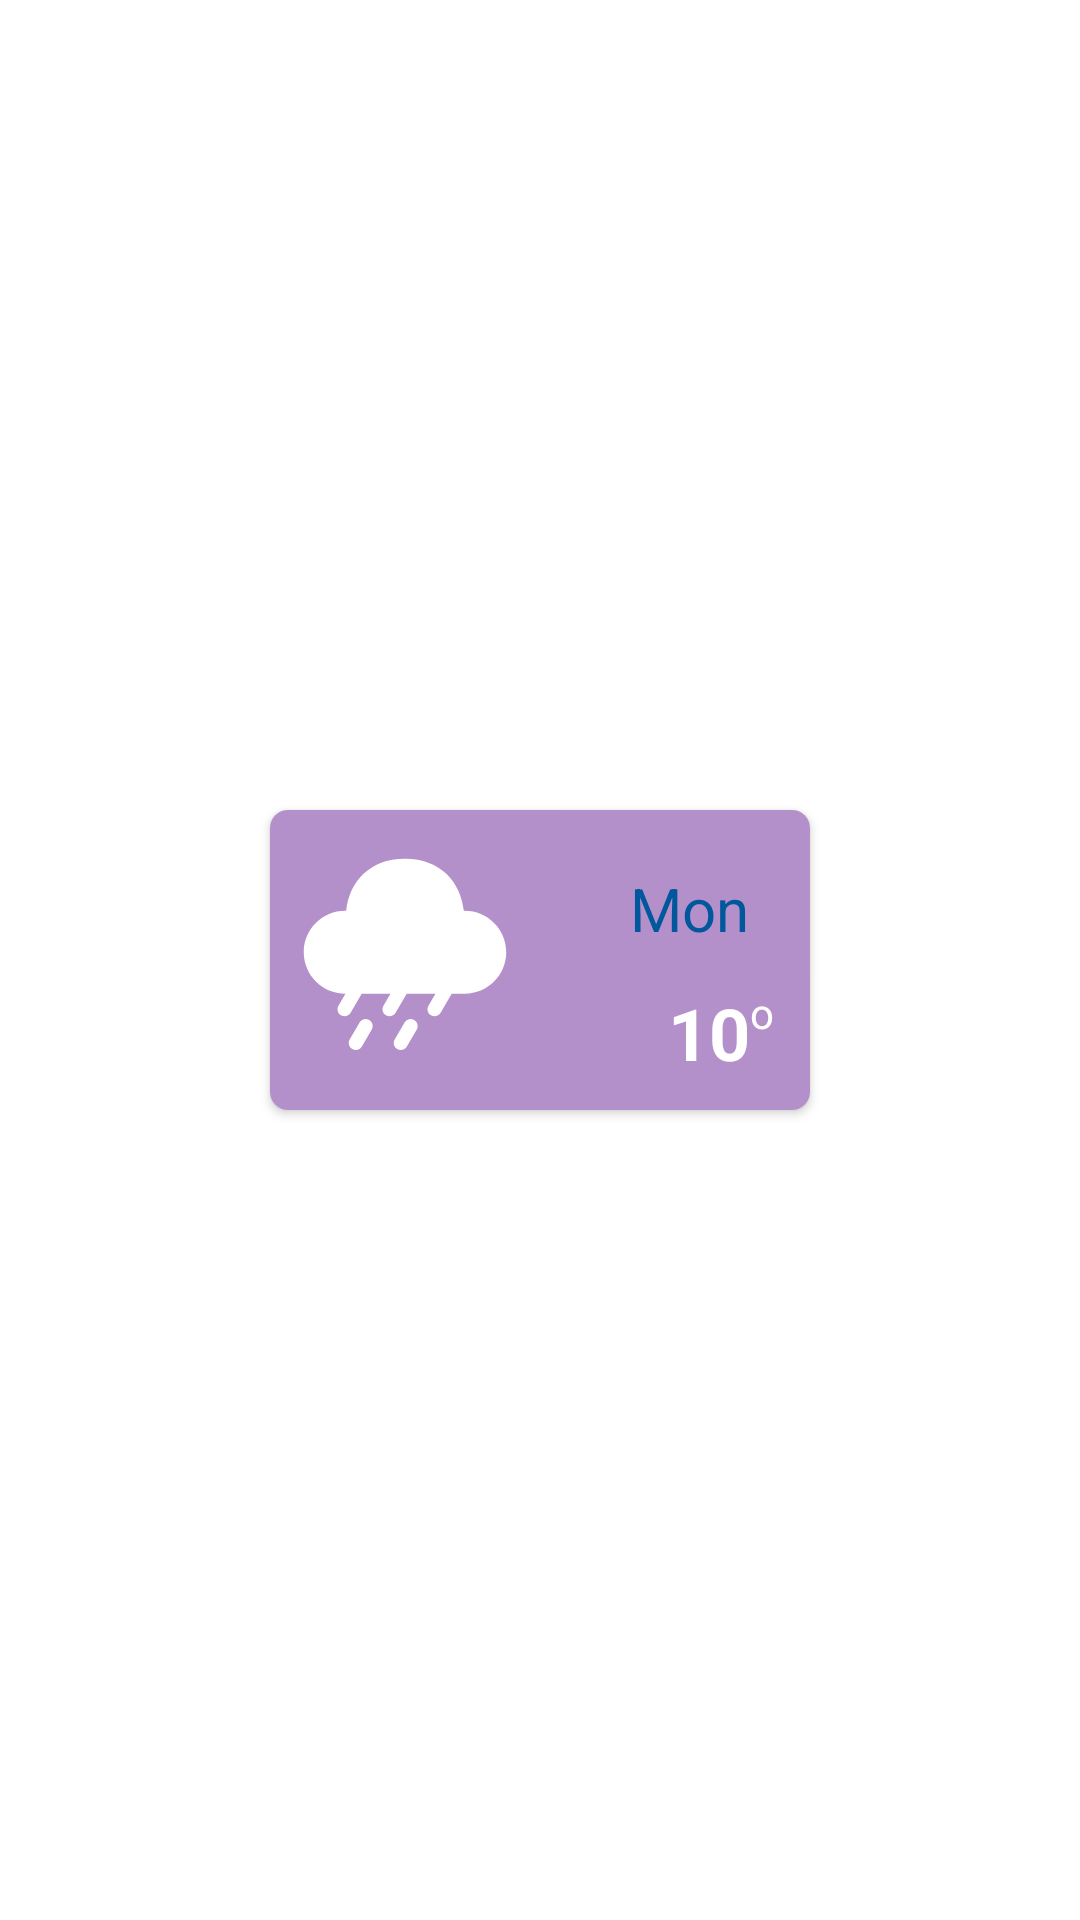

Icons on this 1080*1920 Android screen, each with its box as bbox=(x1, y1, x2, y2):
rain: bbox=(303, 858, 506, 1050)
